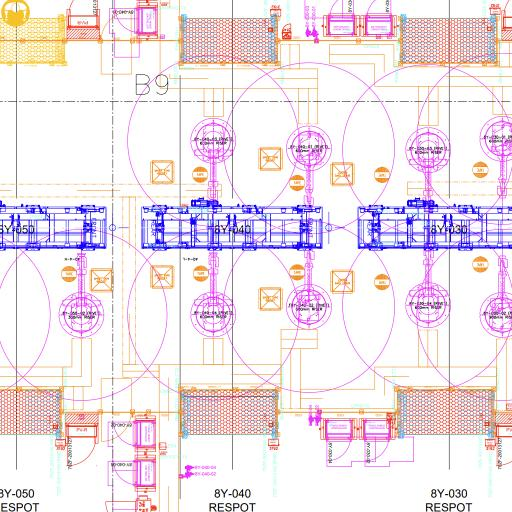robot: (188, 119, 238, 207), (188, 249, 238, 337), (57, 252, 106, 340), (285, 125, 335, 209), (284, 248, 334, 332), (403, 243, 452, 328), (404, 128, 452, 213)
